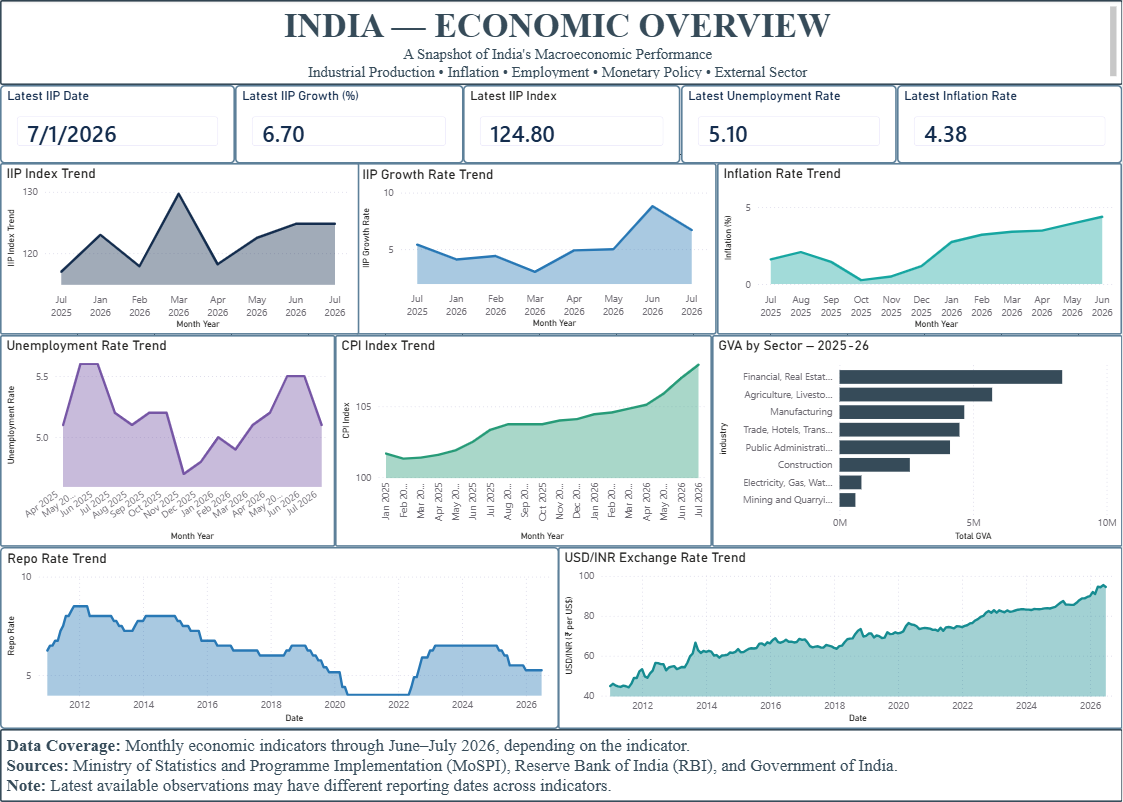

This screenshot's page, from the dashboard's own definition file:
{"tool":"powerbi","page":{"name":"Economic Overview","canvas":[1400,1000],"ordinal":0},"visuals":[{"type":"cardVisual","title":"Latest IIP Growth (%)","fields":{"Data":["Fact_IIP.Latest IIP Growth"]},"box":[293.1,106.1,284.6,97.7],"z":0},{"type":"cardVisual","title":"Latest IIP Index","fields":{"Data":["Fact_IIP.Latest IIP Index"]},"box":[577.7,106.1,271.2,97.7],"z":1000},{"type":"cardVisual","title":"Latest IIP Date","fields":{"Data":["Fact_IIP.Latest IIP Date"]},"box":[0,106.1,293.1,97.7],"z":2000},{"type":"lineChart","title":"IIP Growth Rate Trend","fields":{"Category":["DimDate.Month Year"],"Y":["Fact_IIP.IIP Growth Rate"]},"box":[442.9,203.8,451.4,213.9],"z":3000},{"type":"lineChart","title":"IIP Index Trend ","fields":{"Category":["DimDate.Month Year"],"Y":["Avg(Fact_IIP.IIP Index)"]},"box":[0,203.8,448,213.9],"z":4000},{"type":"cardVisual","title":"Latest Unemployment Rate","fields":{"Data":["Fact_Unemployment.Latest Unemployment Rate"]},"box":[848.8,106.1,269.5,97.7],"z":5000},{"type":"lineChart","title":"Unemployment Rate Trend","fields":{"Category":["DimDate.Month Year"],"Y":["Fact_Unemployment.new Unemployment Rate"]},"box":[0,417.7,417.7,264.4],"z":6000},{"type":"lineChart","title":"CPI Index Trend","fields":{"Category":["DimDate.Month Year"],"Y":["Avg(Fact_CPI.CPI Index)"]},"box":[417.7,417.7,469.9,264.4],"z":7000},{"type":"cardVisual","title":"Latest Inflation Rate","fields":{"Data":["Select Economic Indicators (Monthly).Latest Inflation Rate"]},"box":[1118.3,106.1,281.3,97.7],"z":8000},{"type":"lineChart","title":"Inflation Rate Trend","fields":{"Y":["Select Economic Indicators (Monthly).Inflation Rate"],"Category":["DimDate.Month Year"]},"box":[894.3,203.8,505.3,213.9],"z":9000},{"type":"clusteredBarChart","title":"GVA by Sector – 2025-26","fields":{"Category":["Fact_GVA.industry"],"Y":["Fact_GVA.Total GVA"]},"box":[887.6,417.7,512,264.4],"z":10000},{"type":"lineChart","title":"Repo Rate Trend","fields":{"Category":["Select Economic Indicators (Monthly).Date"],"Y":["Sum(Select Economic Indicators (Monthly).Repo_Rate)"]},"box":[0,682.1,697.3,227.4],"z":11000},{"type":"lineChart","title":"USD/INR Exchange Rate Trend","fields":{"Category":["Select Economic Indicators (Monthly).Date"],"Y":["Sum(Select Economic Indicators (Monthly).INR-US$ Spot Rates (Rs. Per Foreign Currency))"]},"box":[695.6,682.1,704,227.4],"z":12000},{"type":"textbox","box":[0,909.5,1399.6,90.9],"z":13000},{"type":"textbox","box":[0,0,1399.6,106.1],"z":14000}]}

Visuals, with their boxes in screenshot pixels (x1, y1, x2, y2), scaled from the page's 1400x1000 canvas onto the 1123x802 screenshot:
"Latest IIP Growth (%)" cardVisual: left=235, top=85, right=463, bottom=163
"Latest IIP Index" cardVisual: left=463, top=85, right=681, bottom=163
"Latest IIP Date" cardVisual: left=0, top=85, right=235, bottom=163
"IIP Growth Rate Trend" lineChart: left=355, top=163, right=717, bottom=335
"IIP Index Trend " lineChart: left=0, top=163, right=359, bottom=335
"Latest Unemployment Rate" cardVisual: left=681, top=85, right=897, bottom=163
"Unemployment Rate Trend" lineChart: left=0, top=335, right=335, bottom=547
"CPI Index Trend" lineChart: left=335, top=335, right=712, bottom=547
"Latest Inflation Rate" cardVisual: left=897, top=85, right=1122, bottom=163
"Inflation Rate Trend" lineChart: left=717, top=163, right=1122, bottom=335
"GVA by Sector – 2025-26" clusteredBarChart: left=712, top=335, right=1122, bottom=547
"Repo Rate Trend" lineChart: left=0, top=547, right=559, bottom=729
"USD/INR Exchange Rate Trend" lineChart: left=558, top=547, right=1122, bottom=729
textbox: left=0, top=729, right=1122, bottom=801
textbox: left=0, top=0, right=1122, bottom=85
